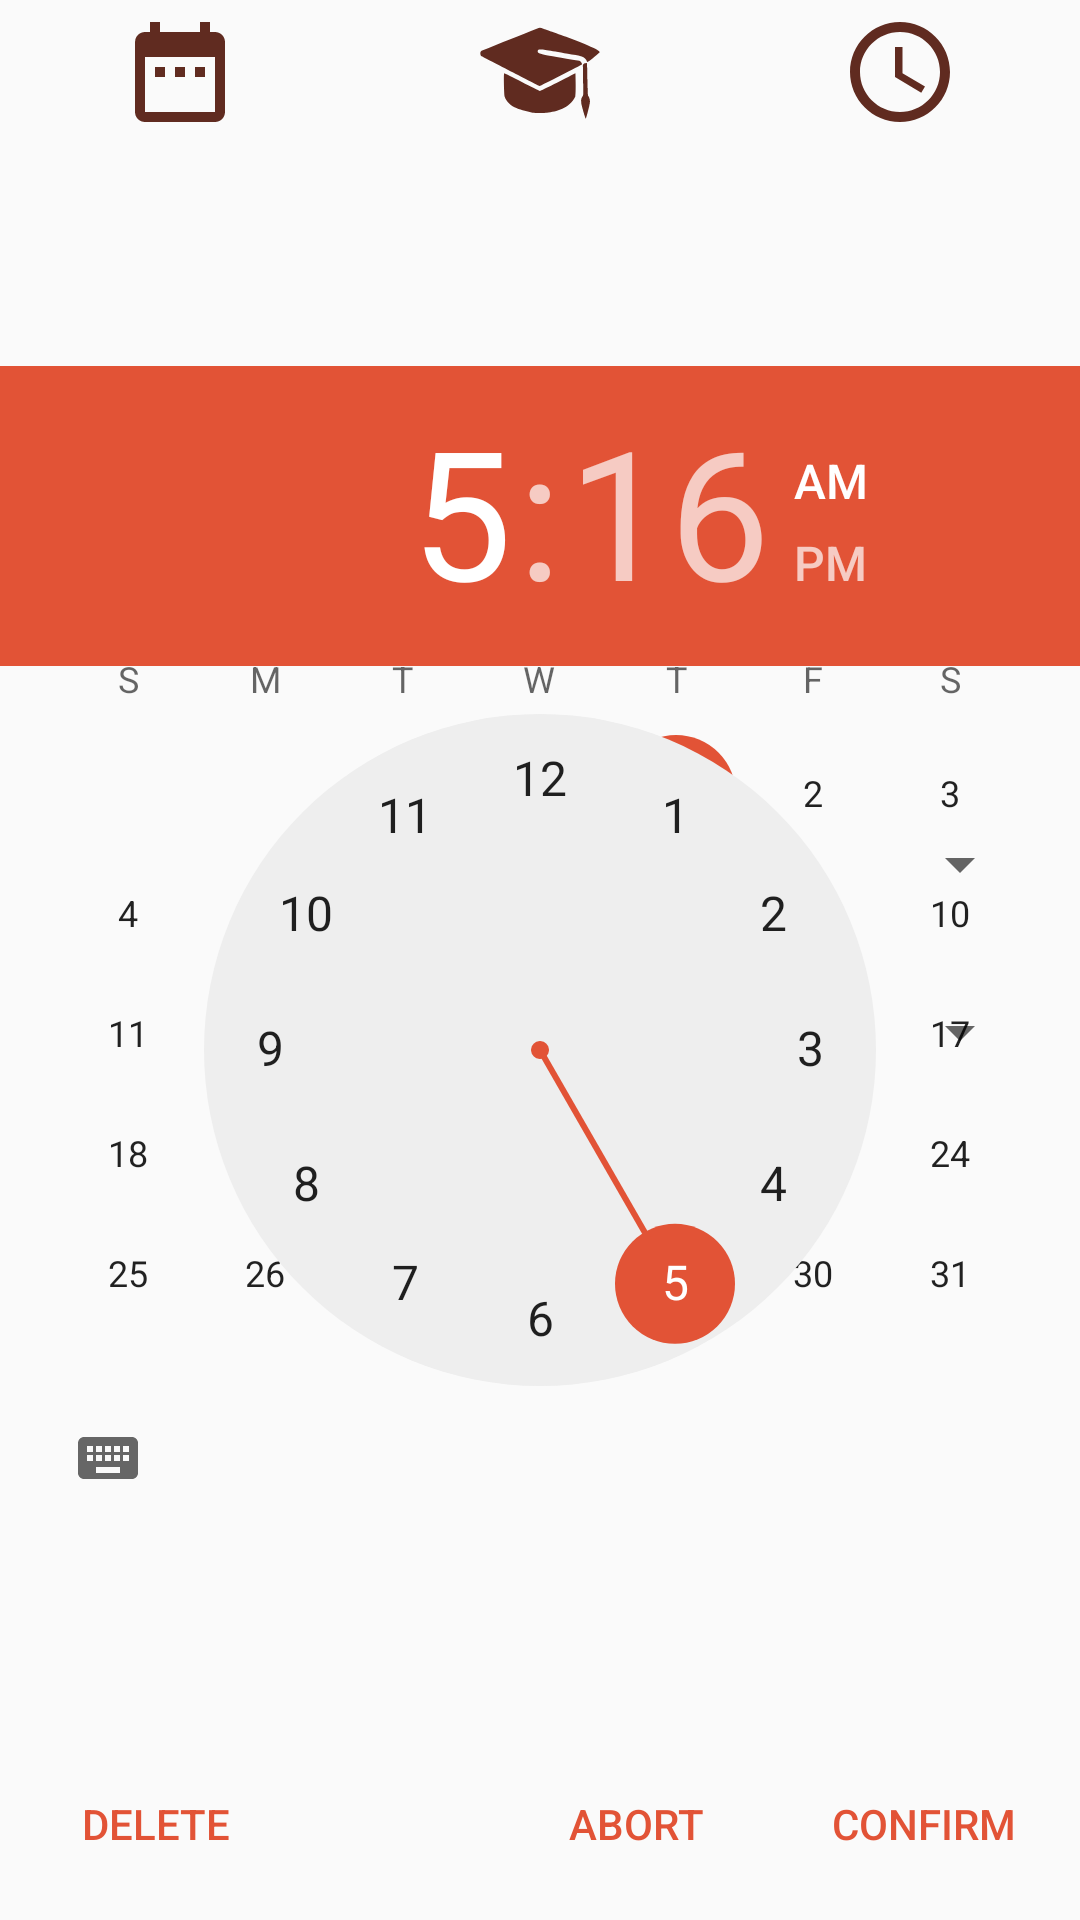

Where icons sit on this 1080 x 1920 app screen, as (x1, y1, x2, y2):
Date: (135, 22, 225, 122)
schedule: (850, 22, 950, 122)
semester: (480, 27, 600, 119)
